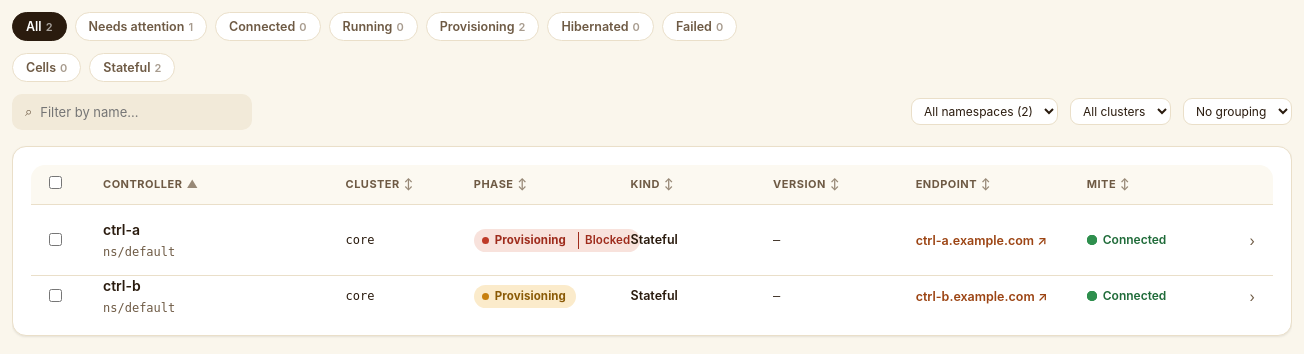
BroodControllerPicker › Hibernated filter chip (#438) › offers a Needs attention chip that filters to controllers with attention
The width and height of the screenshot is (1304, 354).
Click the button "Needs attention 1". click: (141,26)
box: 74,12 -> 207,41
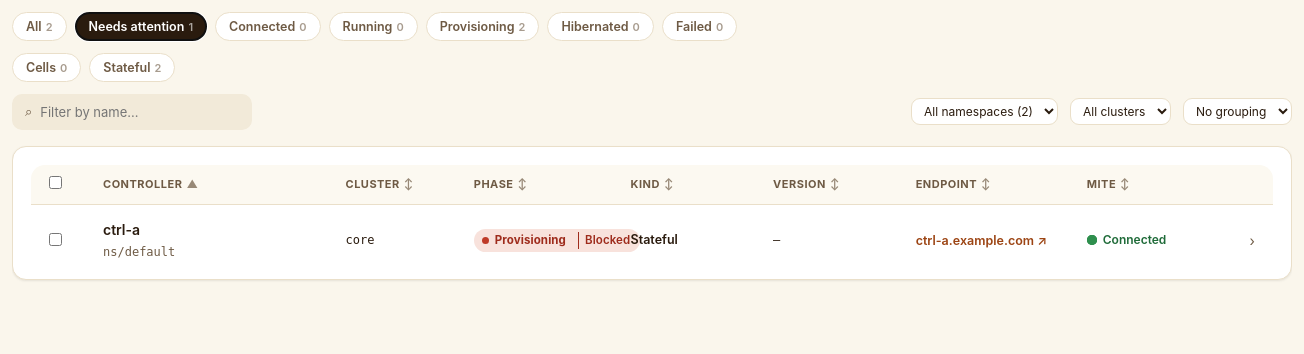
Check: the text "ctrl-a" is shown, box 103,221 -> 140,238
Check: the button "ctrl-b" is gone
